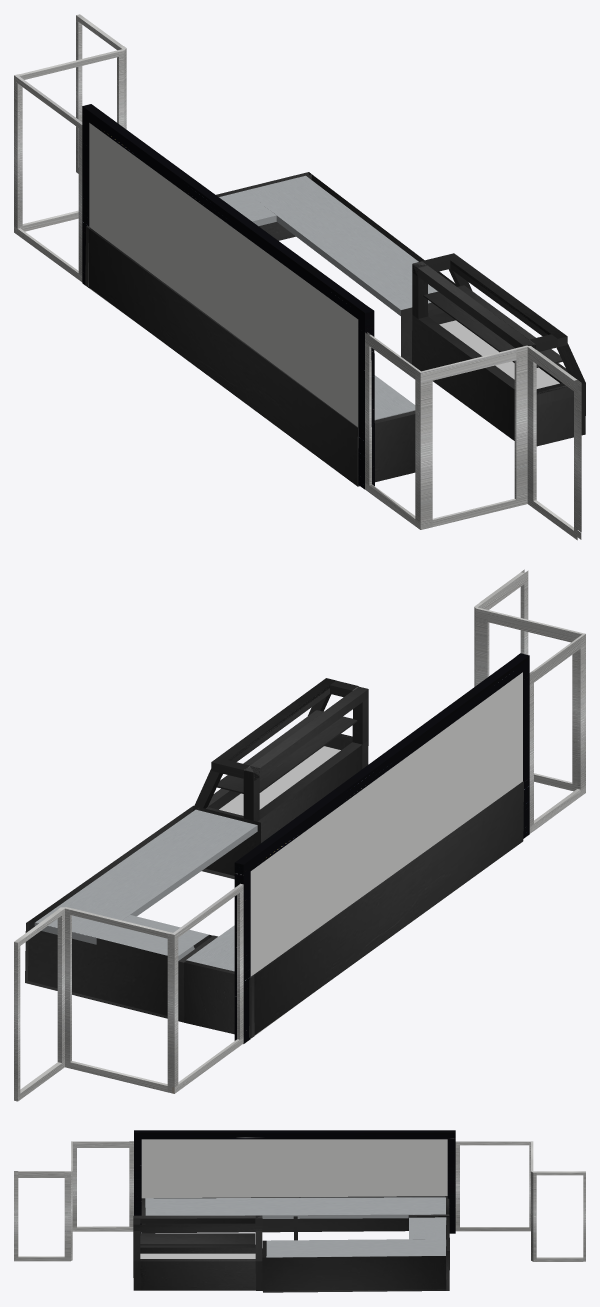
File: Kiosk.obj
3 renders of one model, top to bottom at view 1: azimuth 30°, elevation 25°; view 2: azimuth 150°, elevation 25°; view 3: azimuth 270°, elevation 25°, orthographic. The views are drawn at different scales.
Visible parts, largest first — view 1: KioskBackPanel, Kiosk_Table_Agaisnt_wall; view 2: Kiosk_Table_Agaisnt_wall, KioskBackPanel; view 3: Kiosk_Table_Agaisnt_wall, KioskBackPanel.
Part boxes in pixels (box(x1,y1,x2,y2)): KioskBackPanel: box(14, 14, 581, 540); Kiosk_Table_Agaisnt_wall: box(85, 172, 585, 486); Kiosk_Table_Agaisnt_wall: box(25, 678, 523, 1037); KioskBackPanel: box(14, 569, 585, 1101); Kiosk_Table_Agaisnt_wall: box(133, 1196, 449, 1292); KioskBackPanel: box(14, 1130, 585, 1261).
Size of the model in its own units: 9.74 by 7.43 by 37.91.
